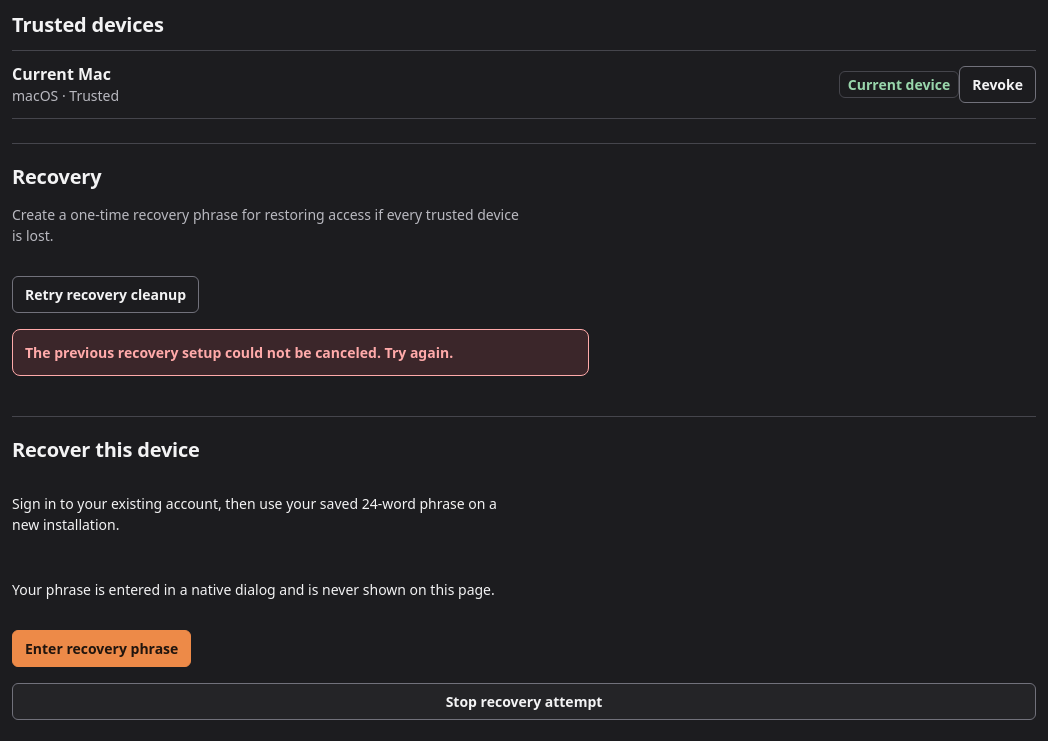
Test: DevicesScreen › keeps an explicit cleanup retry when the daemon is still awaiting confirmation
The image size is (1048, 741).
Expected: the message reads "The previous recovery setup could not be canceled. Try again.", x1=25 y1=343 x2=453 y2=362
Click the button "Retry recovery cleanup" at [106, 295], box x1=12 y1=276 x2=199 y2=313
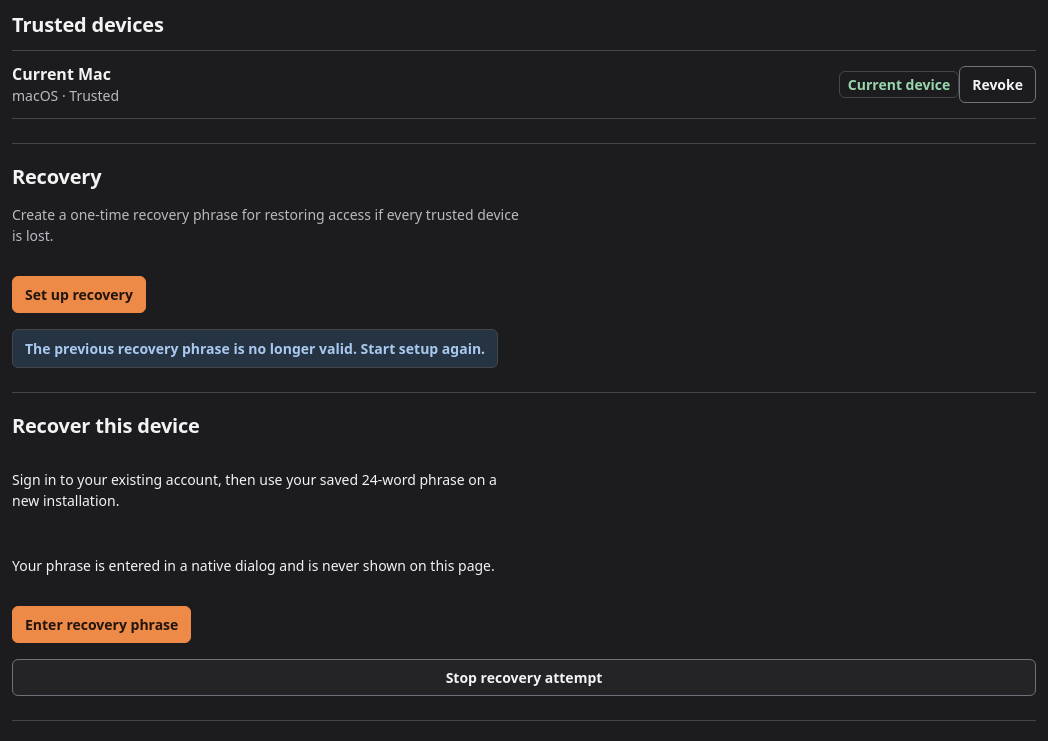
Expected: the message reads "The previous recovery phrase is no longer valid. Start setup again.", x1=25 y1=339 x2=485 y2=358
Expected: the button "Set up recovery" is enabled, x1=12 y1=276 x2=146 y2=313
